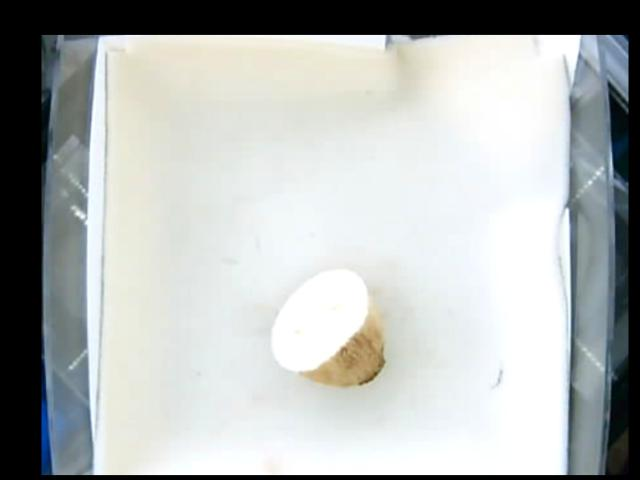Mooli: (270, 266, 388, 384)
